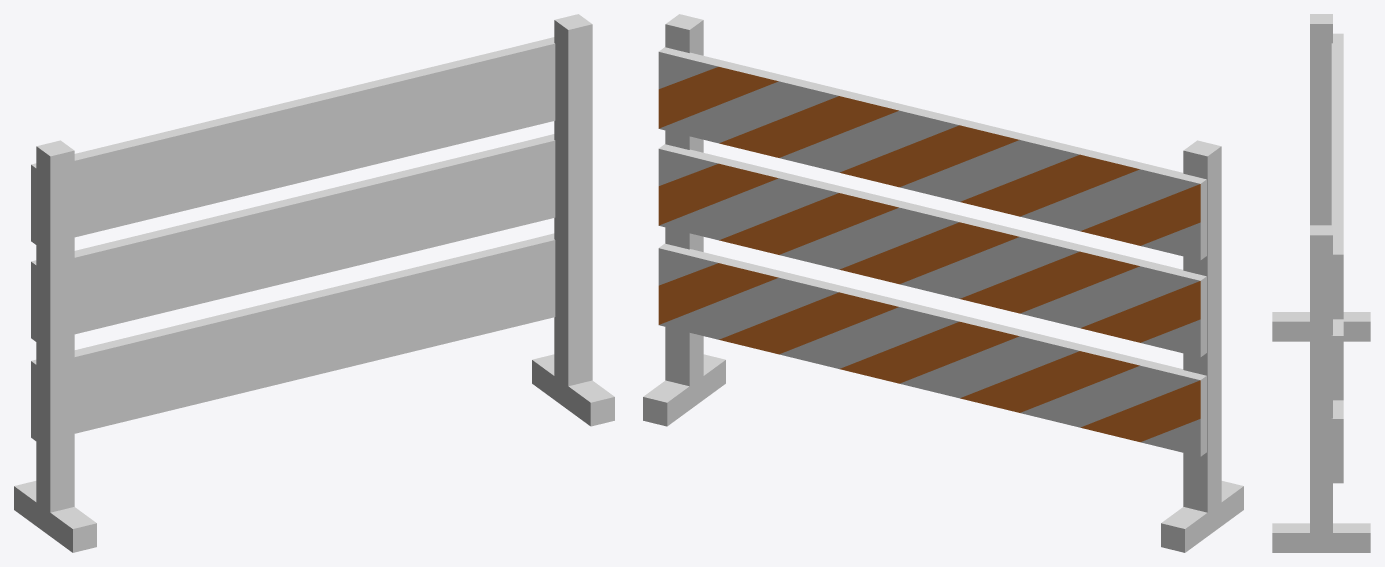
Rendered from construction_block_large.fbx.
The picture shows the model from 3 angles, left to right: view 1: azimuth 30°, elevation 25°; view 2: azimuth 150°, elevation 25°; view 3: azimuth 270°, elevation 25°; orthographic projection. The views are drawn at different scales.
Parts seen in each view (by area): view 1: roadblock 3 lines large; view 2: roadblock 3 lines large; view 3: roadblock 3 lines large.
Part boxes in pixels (x1,y1,x2,y2): roadblock 3 lines large: [14, 14, 614, 552]; roadblock 3 lines large: [643, 14, 1243, 552]; roadblock 3 lines large: [1272, 14, 1370, 552].
Bounding box in the file's own units: 419 × 281 × 78.64.
